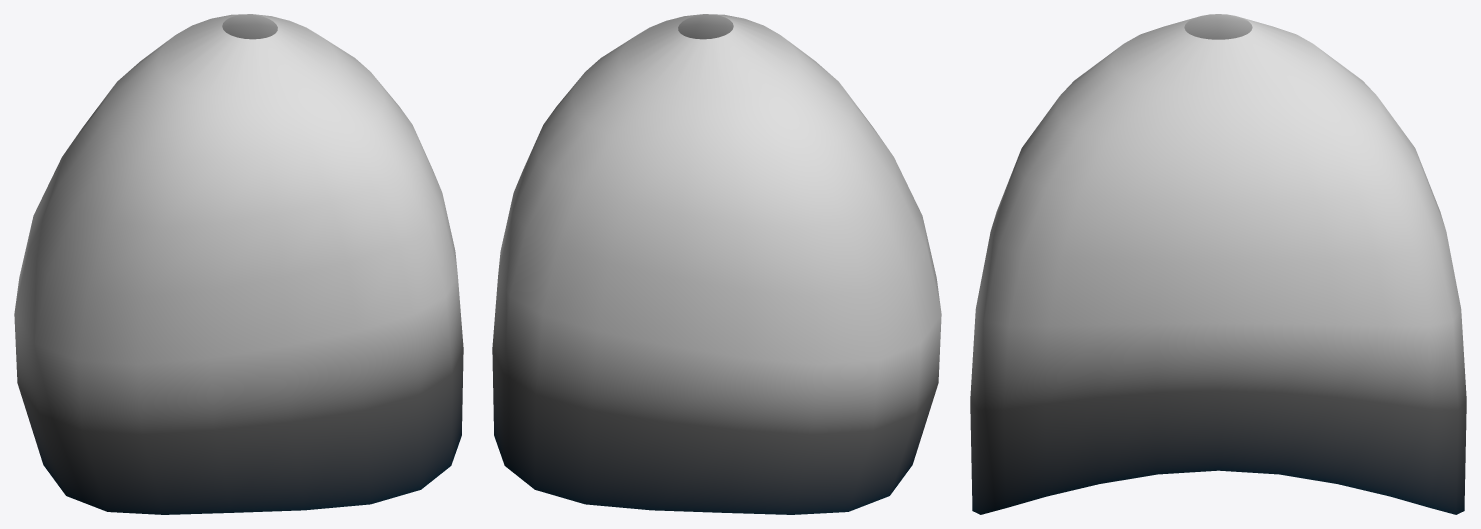
Rendered from qizhao3.FBX.
The picture shows the model from 3 angles, left to right: view 1: azimuth 30°, elevation 25°; view 2: azimuth 150°, elevation 25°; view 3: azimuth 270°, elevation 25°; orthographic projection. The views are drawn at different scales.
Visible parts, largest first — view 1: Cylinder002; view 2: Cylinder002; view 3: Cylinder002.
Part boxes in pixels (x1=…): Cylinder002: x1=14, y1=14, x2=463, y2=514; Cylinder002: x1=492, y1=14, x2=941, y2=514; Cylinder002: x1=970, y1=14, x2=1466, y2=514.
Size of the model in its own units: 356 by 387 by 364.
